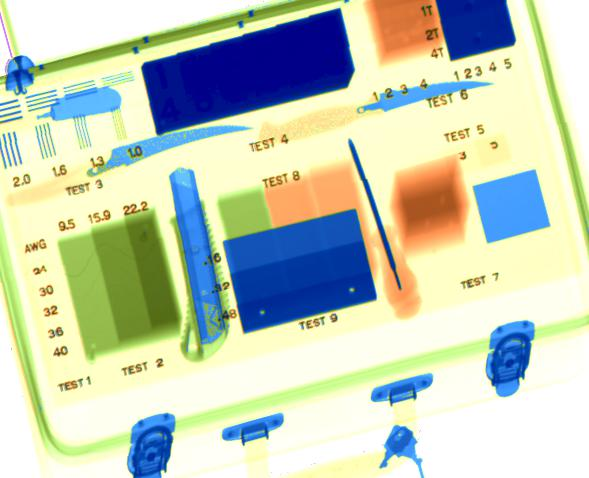KnifeCustom: (6, 122, 252, 206), (257, 78, 495, 143), (34, 86, 121, 124)
